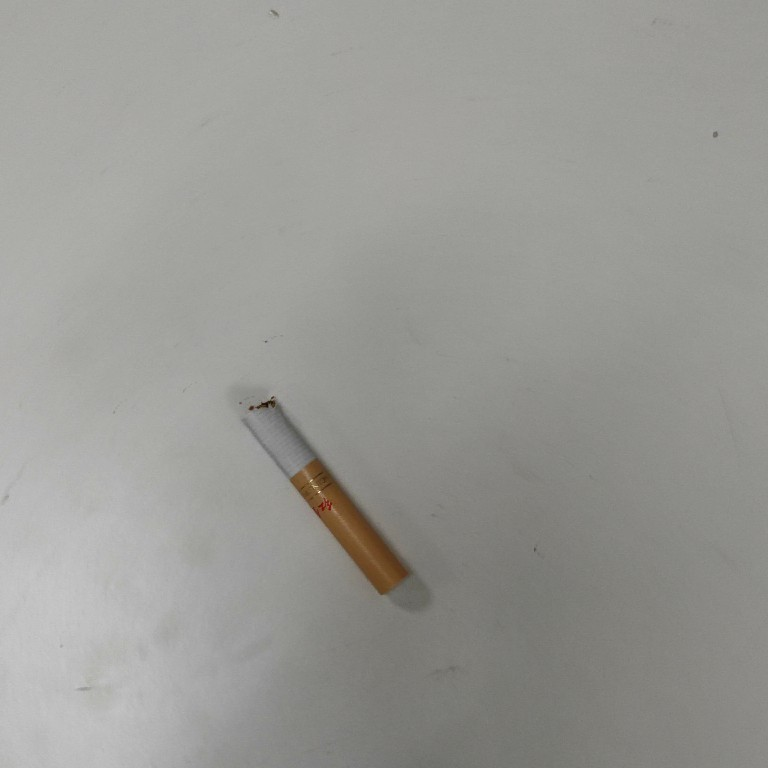cigarette: (240, 391, 411, 598)
